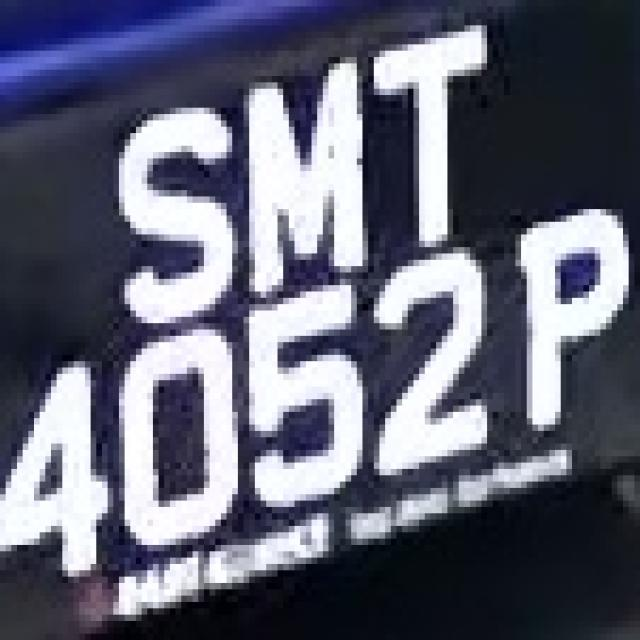0: (119, 310, 249, 558)
2: (368, 247, 499, 494)
4: (17, 348, 113, 608)
5: (238, 279, 379, 532)
M: (221, 57, 391, 292)
P: (498, 209, 640, 469)
S: (96, 70, 249, 323)
T: (351, 32, 504, 235)
